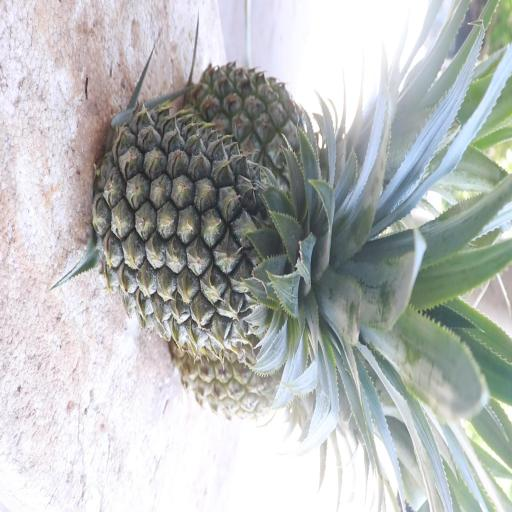------------------------------: (170, 331, 405, 470)
